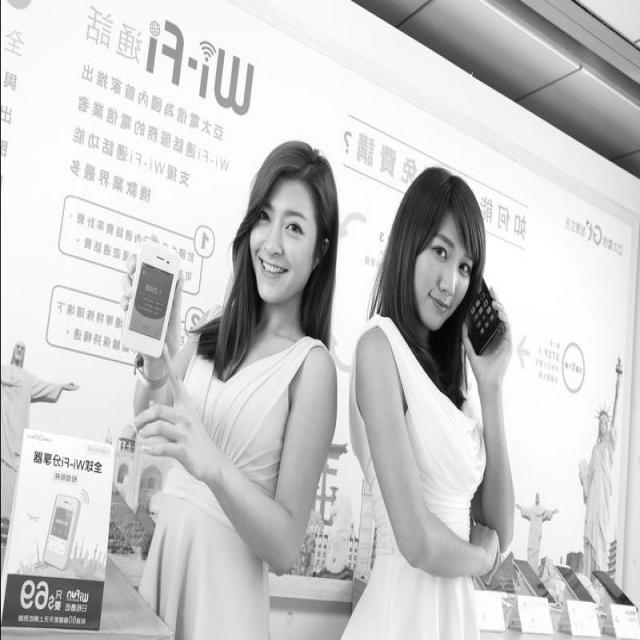phone: (448, 240, 514, 364)
